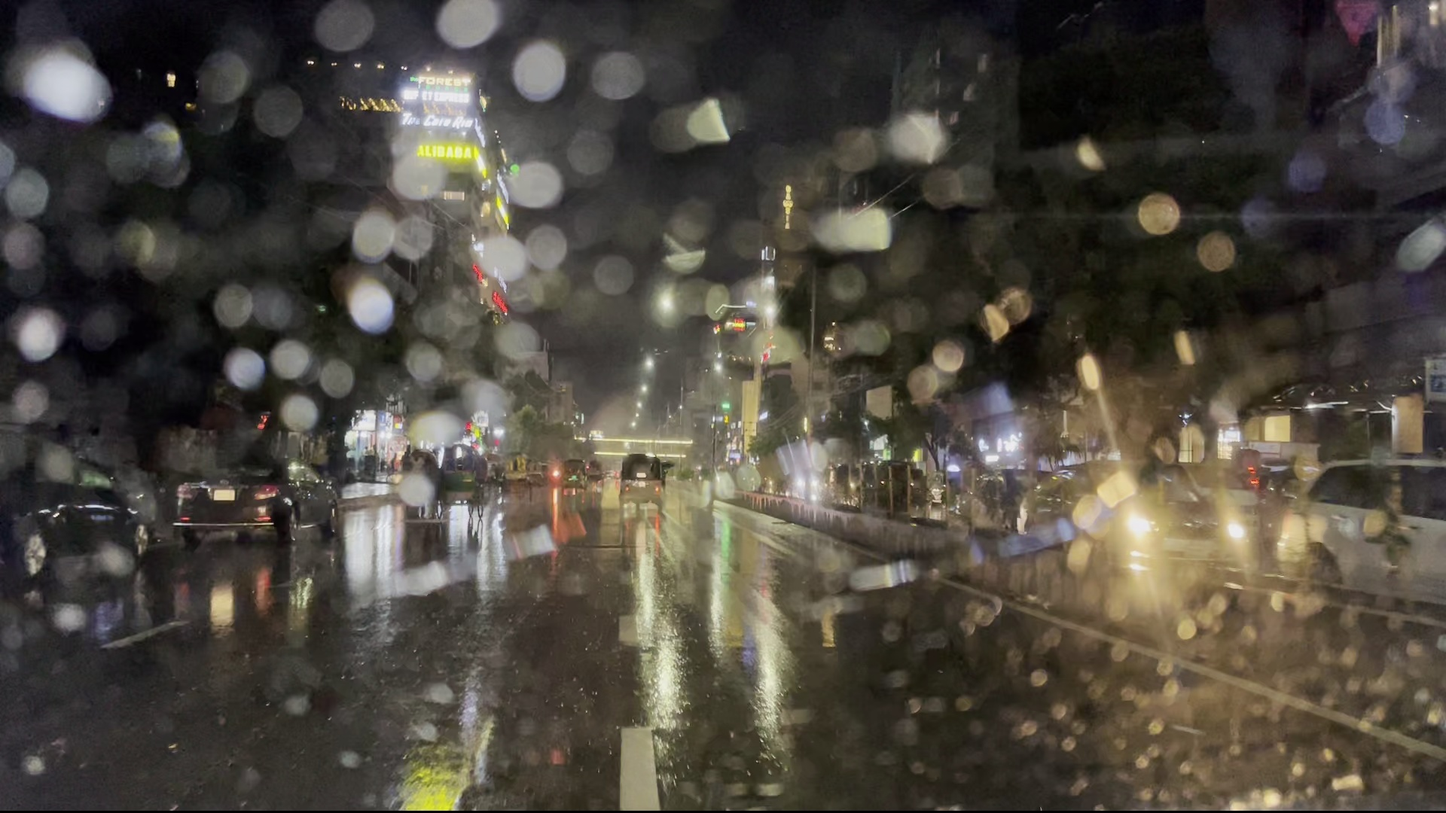car: (1014, 450, 1254, 582), (1275, 447, 1446, 607), (2, 434, 156, 582), (170, 447, 343, 547)
